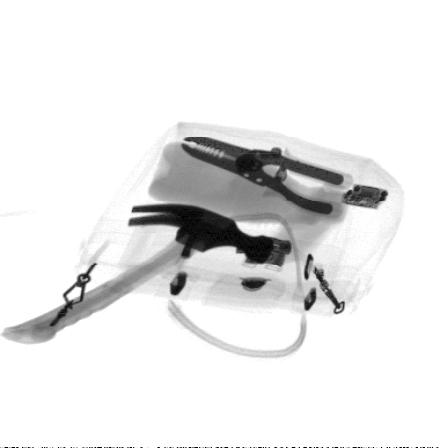Hammer: (0, 204, 276, 347)
Pliers: (183, 136, 354, 219)
